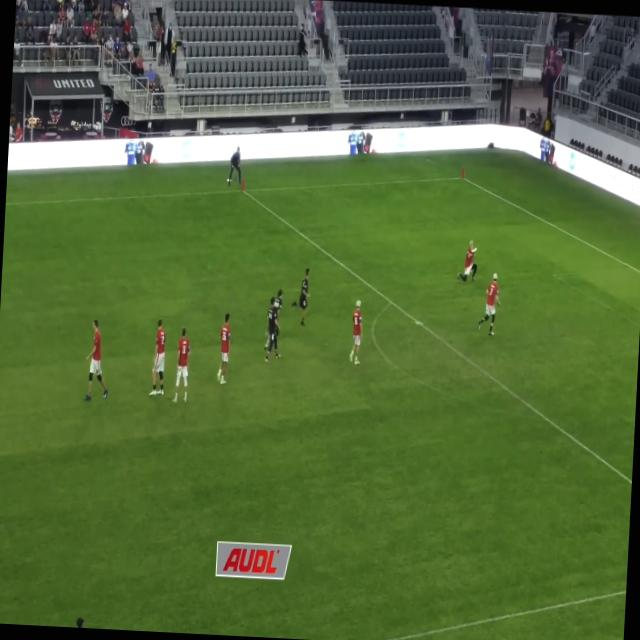Disc: (472, 248, 477, 252)
Player: (84, 318, 112, 402), (172, 327, 192, 405), (478, 272, 502, 336), (149, 318, 168, 398), (290, 267, 312, 327), (265, 296, 284, 364), (264, 288, 284, 350), (216, 313, 232, 385), (350, 300, 365, 366), (457, 239, 479, 282), (228, 146, 244, 188)
